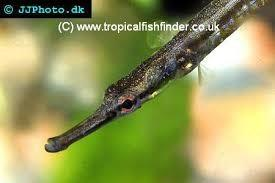Long-Snouted Pipefish: (44, 0, 269, 152)
